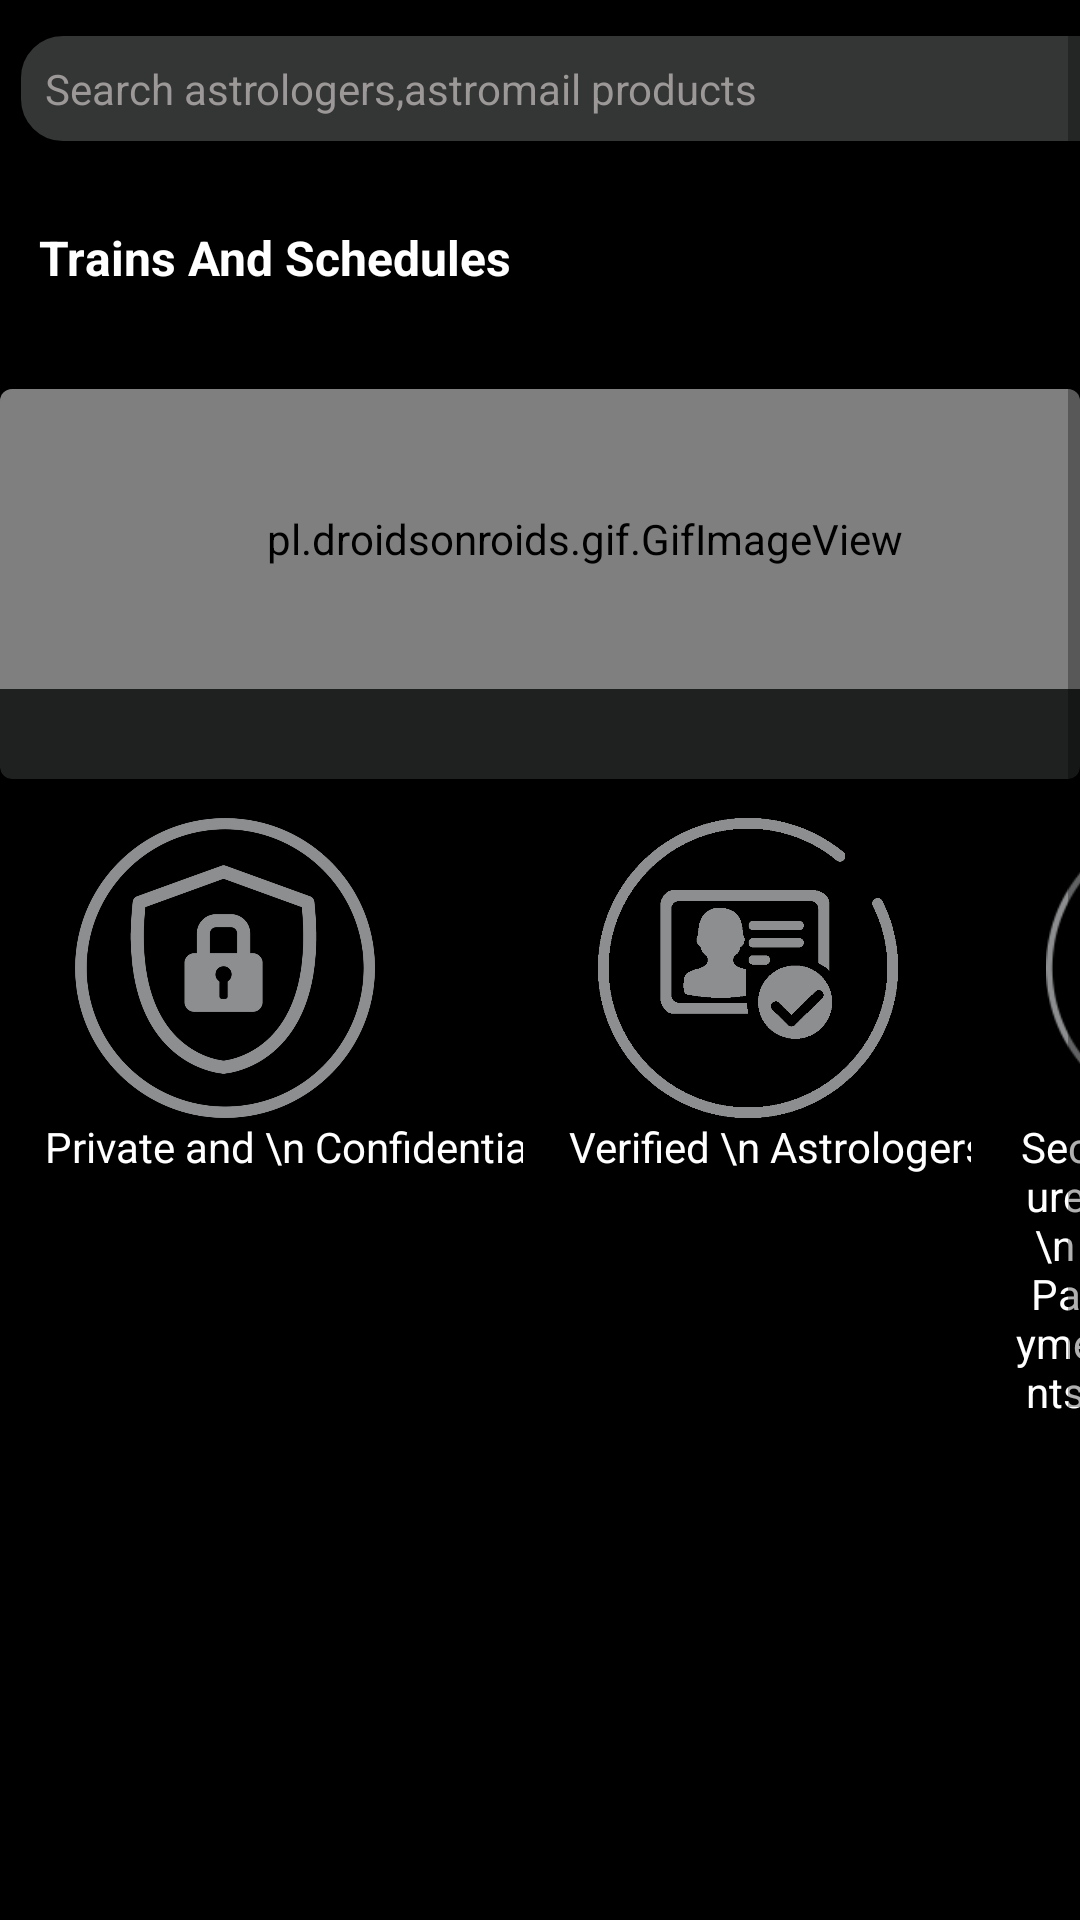

Named icons in this screenshot (1080 × 1920) and their centers, (x=x, y=y):
lockme: (x=225, y=968)
